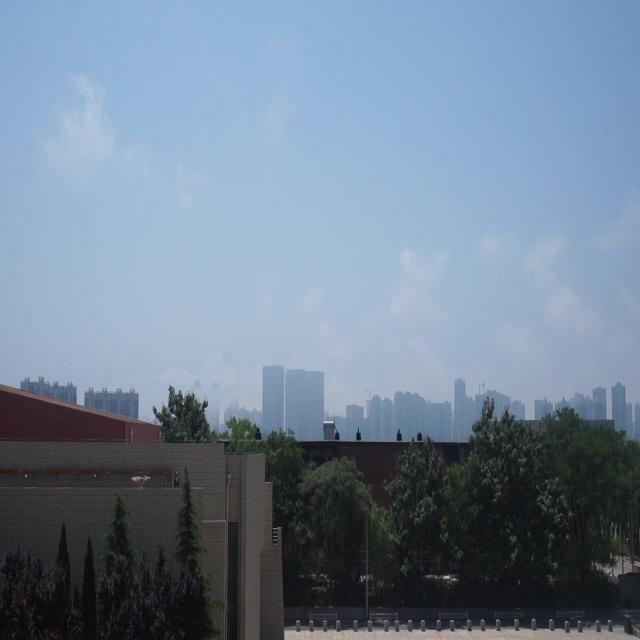UAV: (131, 476, 151, 492)
